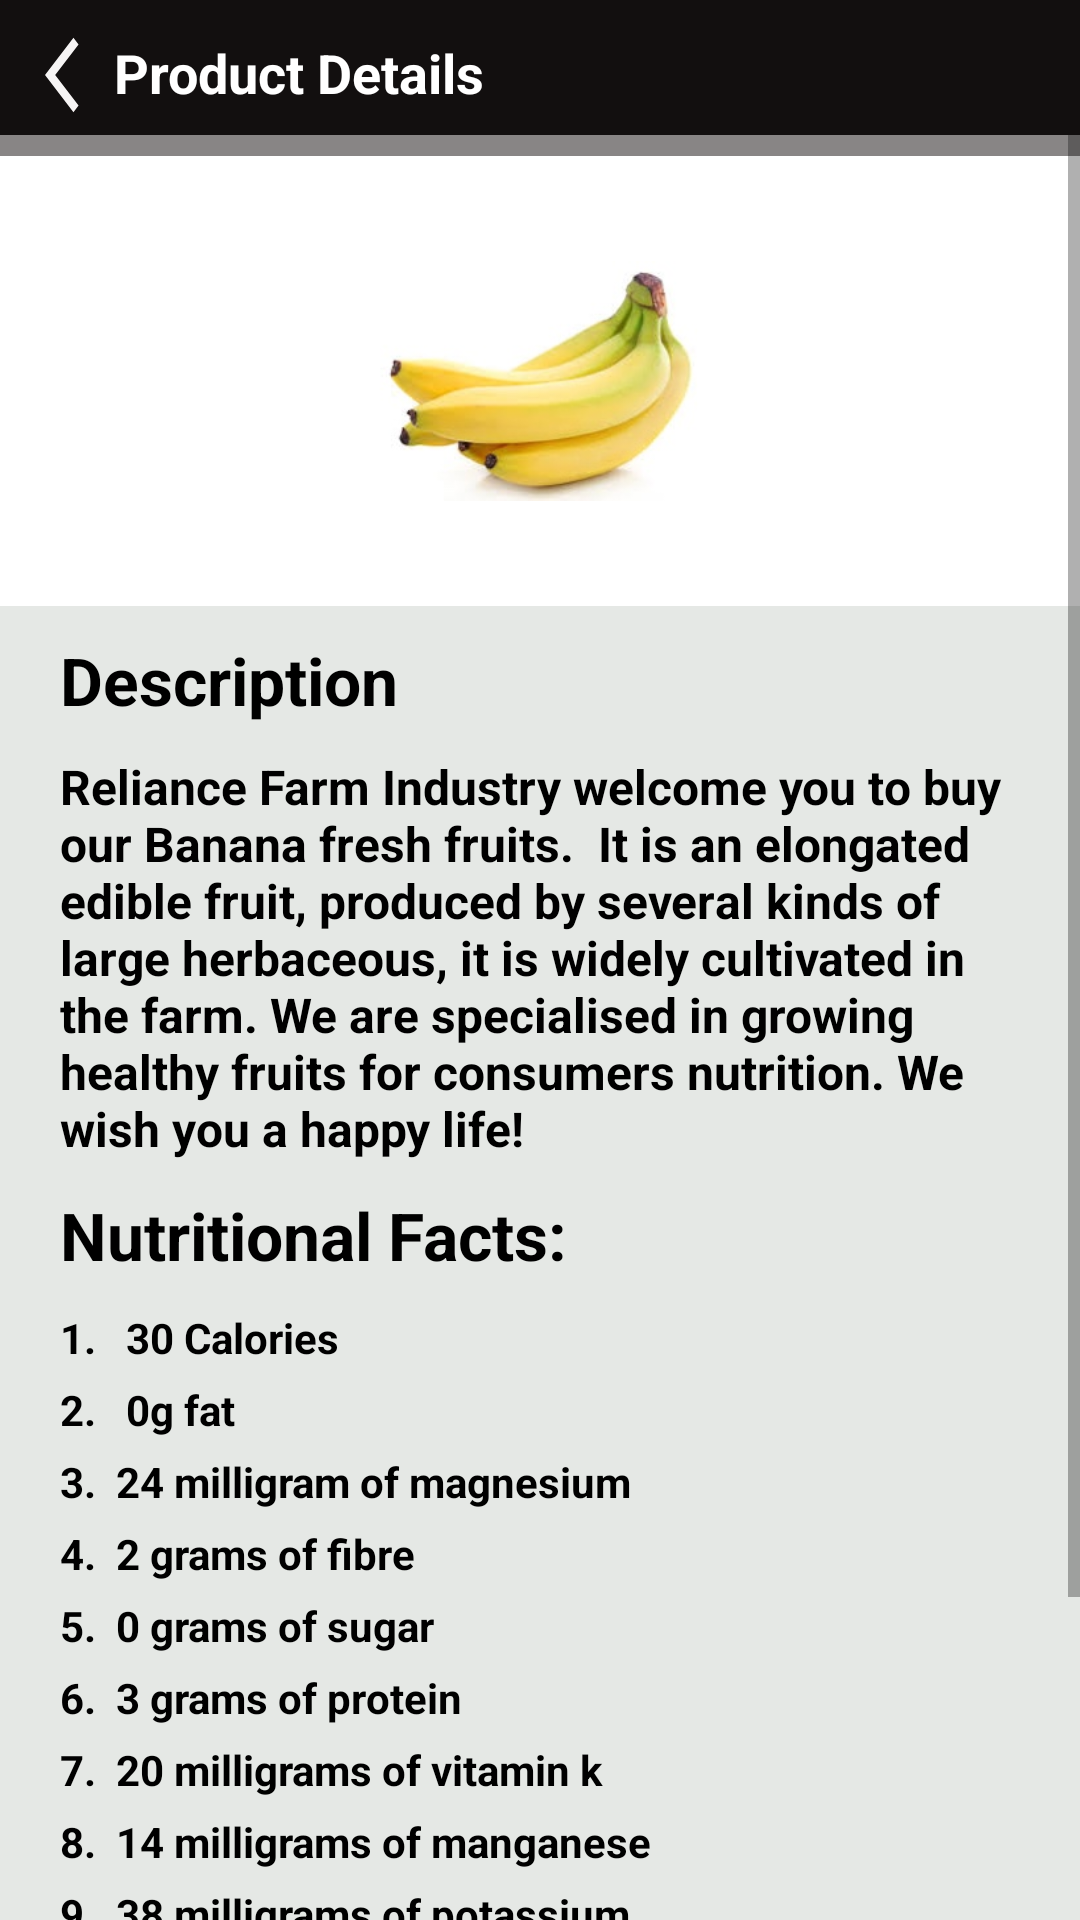

Where to tap for icons on this 1080 x 1920 app screen, as (x=x, y=y):
arrow back: (x=62, y=75)
banana: (x=540, y=386)
